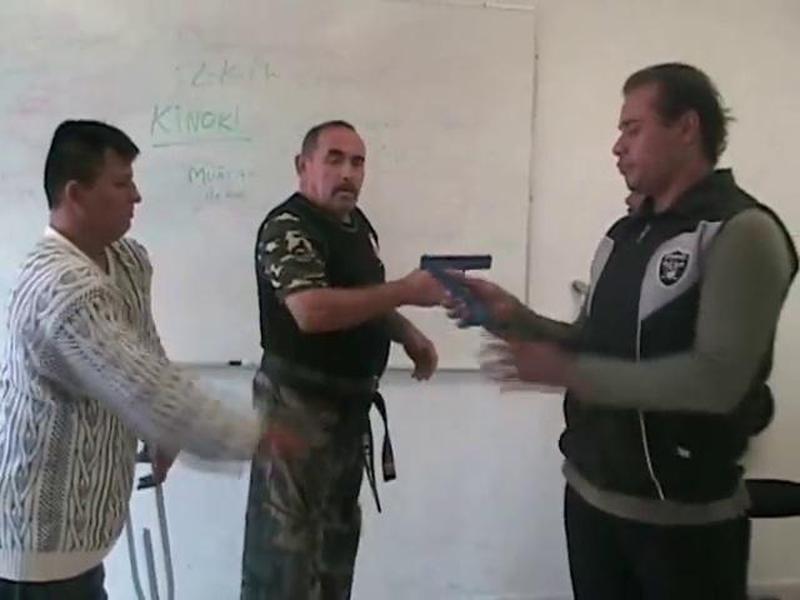Pistola: (403, 240, 503, 306)
